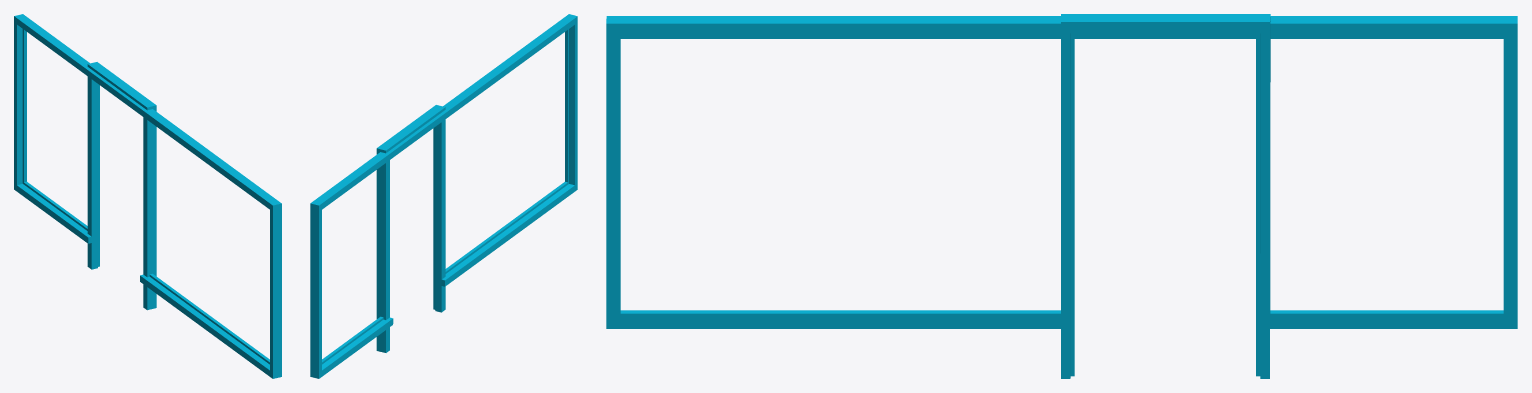
Rendered from W_02B_Door_01.fbx.
The picture shows the model from 3 angles, left to right: view 1: azimuth 30°, elevation 25°; view 2: azimuth 150°, elevation 25°; view 3: azimuth 270°, elevation 25°; orthographic projection. The views are drawn at different scales.
Parts seen in each view (by area): view 1: W_02B_Door_01; view 2: W_02B_Door_01; view 3: W_02B_Door_01.
Part boxes in pixels (x1,y1,x2,y2): W_02B_Door_01: [14, 14, 281, 378]; W_02B_Door_01: [310, 14, 577, 378]; W_02B_Door_01: [606, 14, 1517, 378].
Bounding box in the file's own units: 15.74 × 240 × 555.
